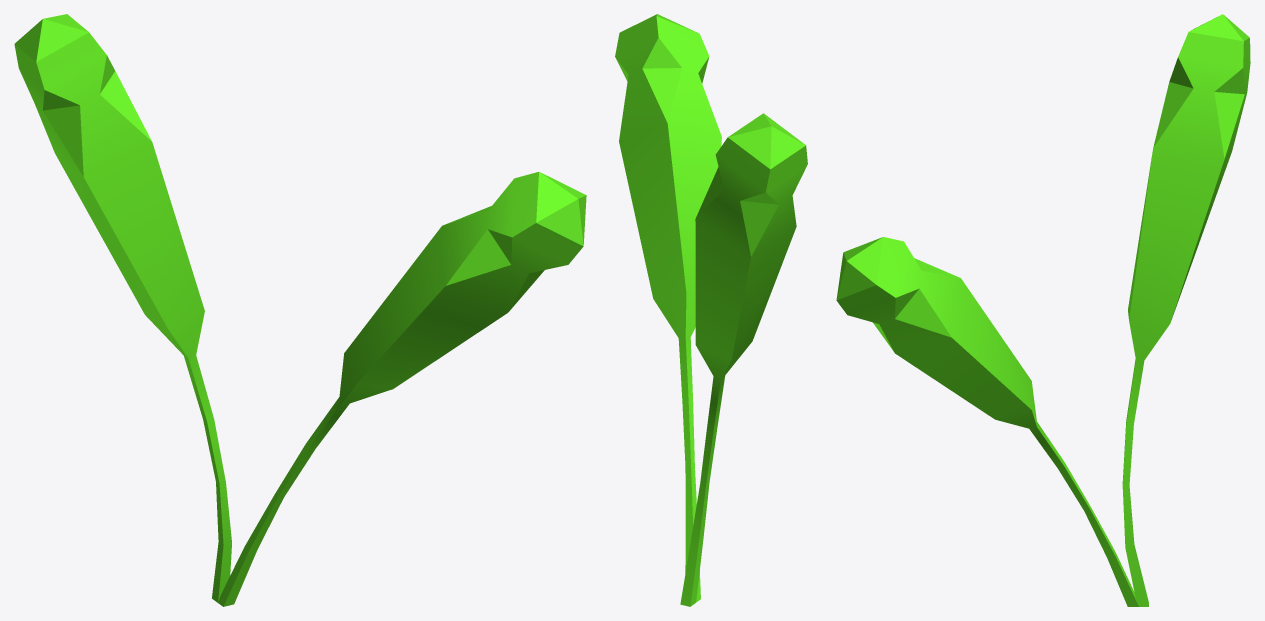
The model's file is SM_Flower_7.FBX.
3 renders of one model, left to right at view 1: azimuth 30°, elevation 25°; view 2: azimuth 150°, elevation 25°; view 3: azimuth 270°, elevation 25°, orthographic. The views are drawn at different scales.
Parts seen in each view (by area): view 1: 7; view 2: 7; view 3: 7.
Boxes of the visible parts, x1,y1,x2,y2 form: 7: (14, 14, 586, 606); 7: (615, 14, 807, 606); 7: (836, 14, 1250, 606).
Bounding box in the file's own units: 4.25 × 6.27 × 4.43.
